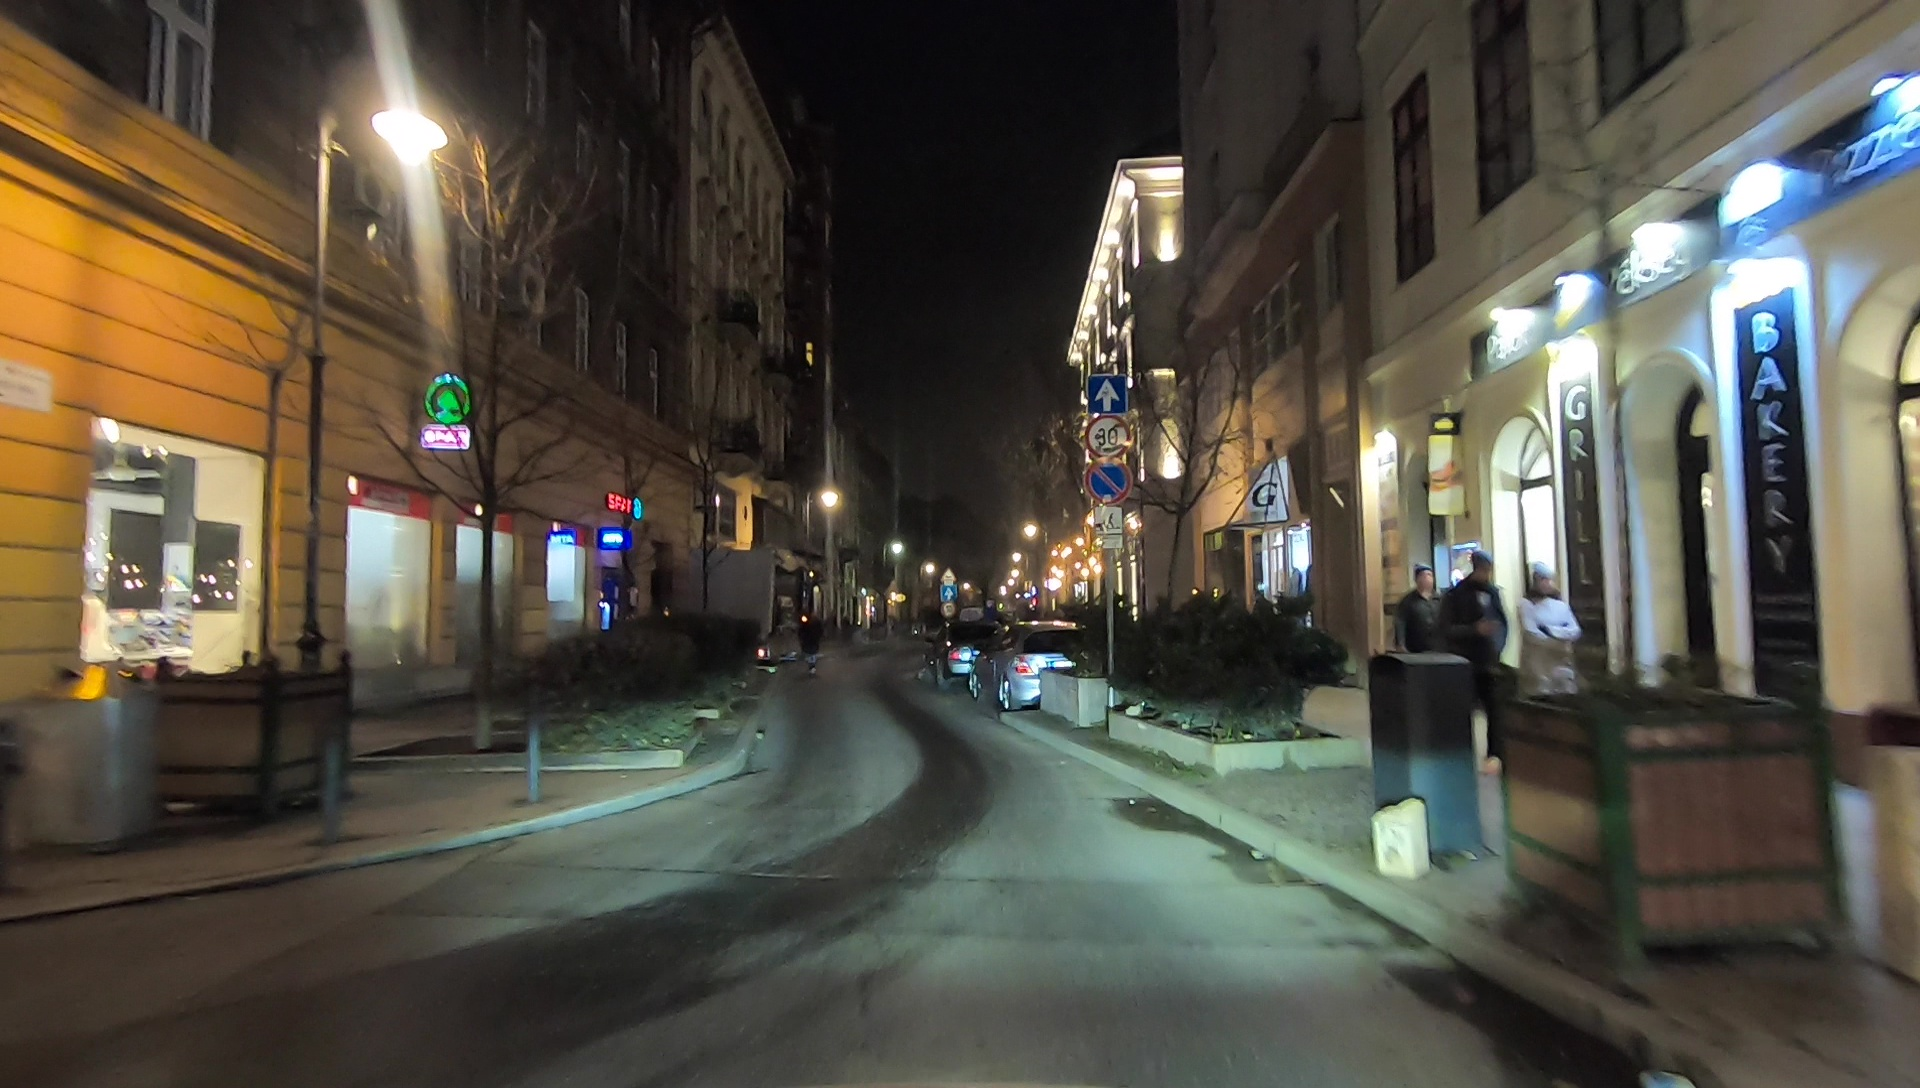person: (1441, 552, 1512, 724), (1512, 563, 1578, 737), (1388, 560, 1441, 711), (797, 606, 821, 673)
